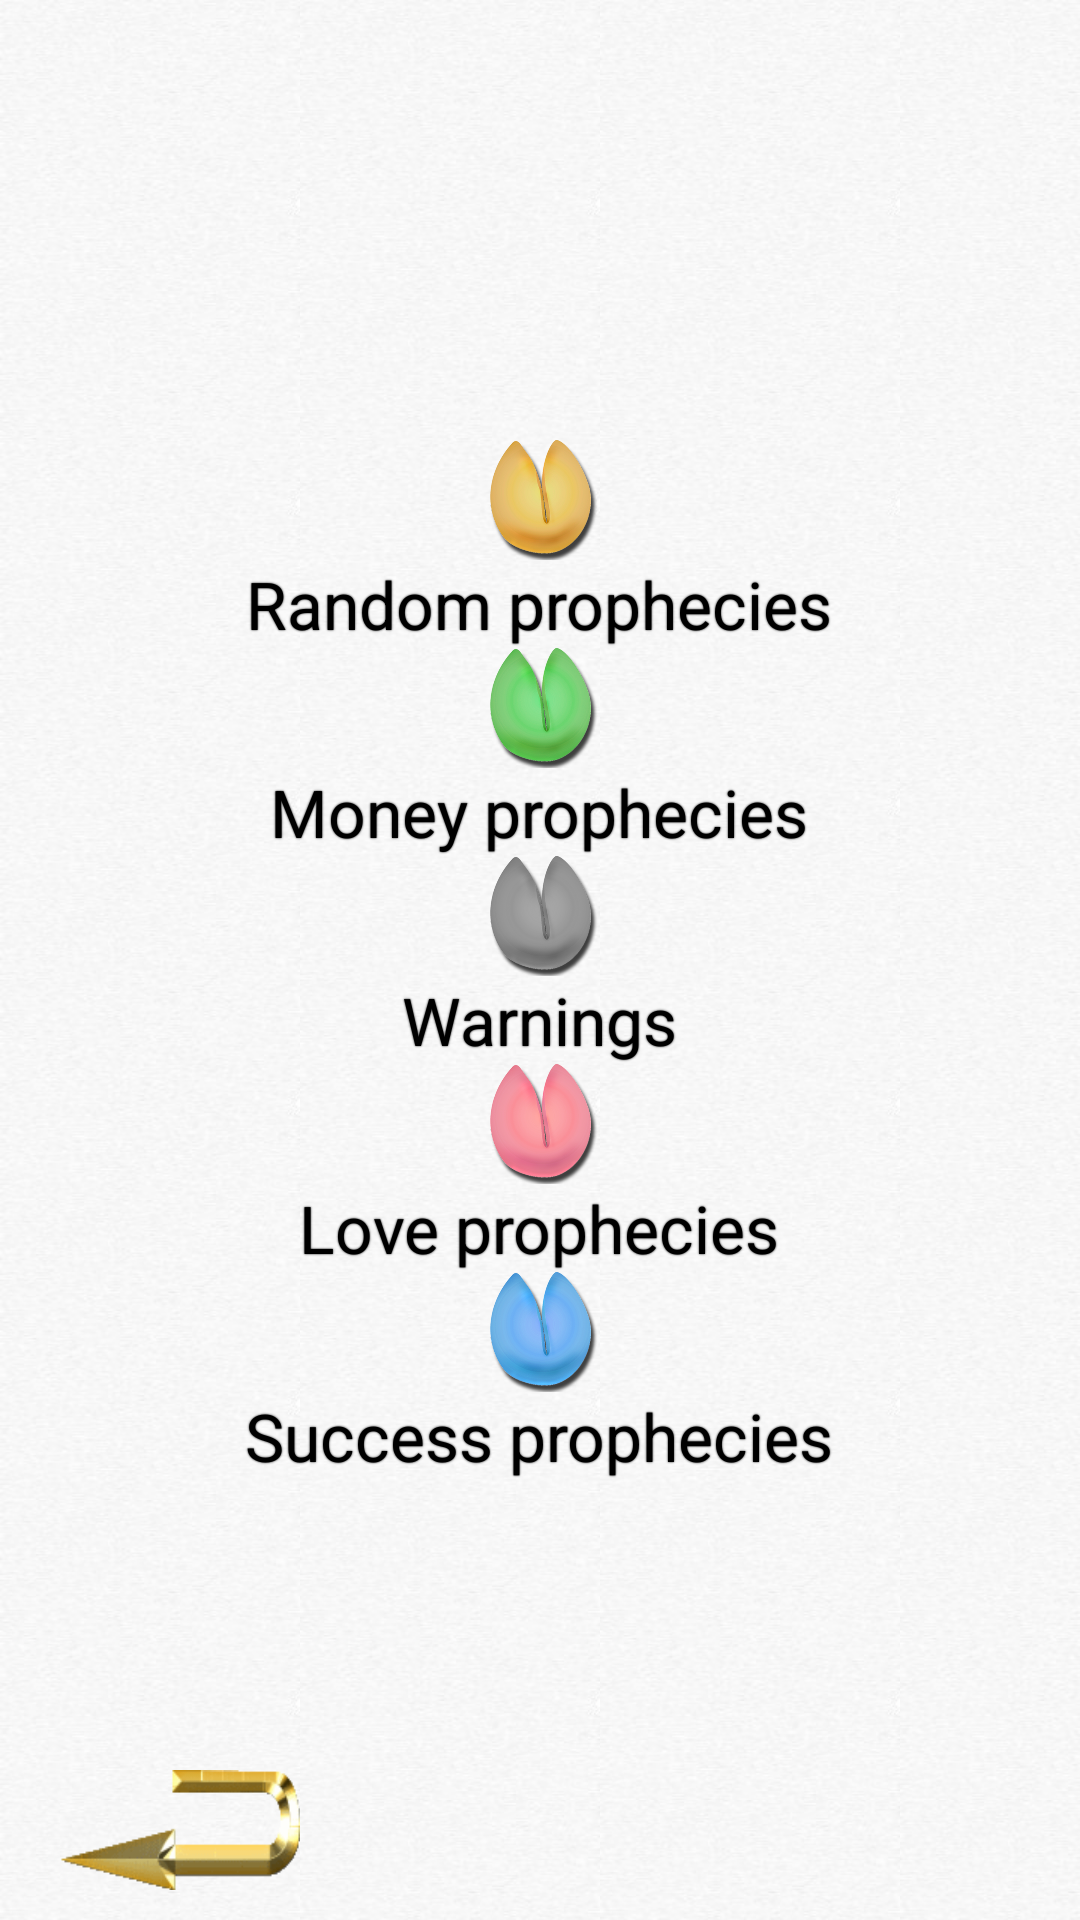

Screen size 1080 x 1920. Icon name, then its box in pixels as (x1, y1, x2, y2):
back: (61, 1770, 300, 1890)
cookie: (490, 440, 596, 560), (490, 648, 596, 768), (490, 856, 596, 976), (490, 1064, 596, 1184), (490, 1272, 596, 1392)
